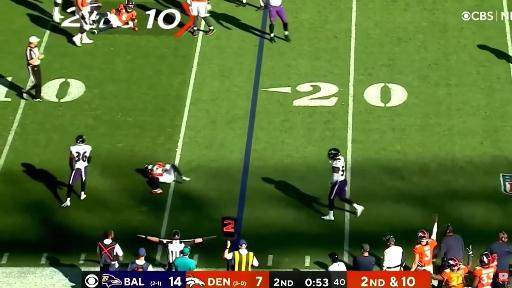Helmet: (479, 252, 492, 267), (447, 258, 460, 271), (328, 148, 340, 159), (418, 230, 429, 242), (125, 0, 134, 11), (76, 135, 85, 144), (145, 164, 154, 171)
Jersey: (413, 239, 437, 267), (441, 266, 468, 287), (474, 265, 496, 287), (70, 145, 91, 168), (116, 4, 136, 25), (331, 156, 345, 182), (150, 164, 166, 177), (75, 0, 89, 10), (269, 0, 282, 6)
Player: (322, 148, 364, 219), (62, 135, 91, 206), (92, 0, 138, 34), (411, 215, 437, 273), (146, 163, 190, 194), (432, 253, 472, 287), (188, 0, 215, 36), (268, 0, 290, 43), (73, 0, 93, 46), (472, 252, 496, 287), (88, 0, 101, 25), (52, 0, 63, 22), (257, 0, 265, 10)
